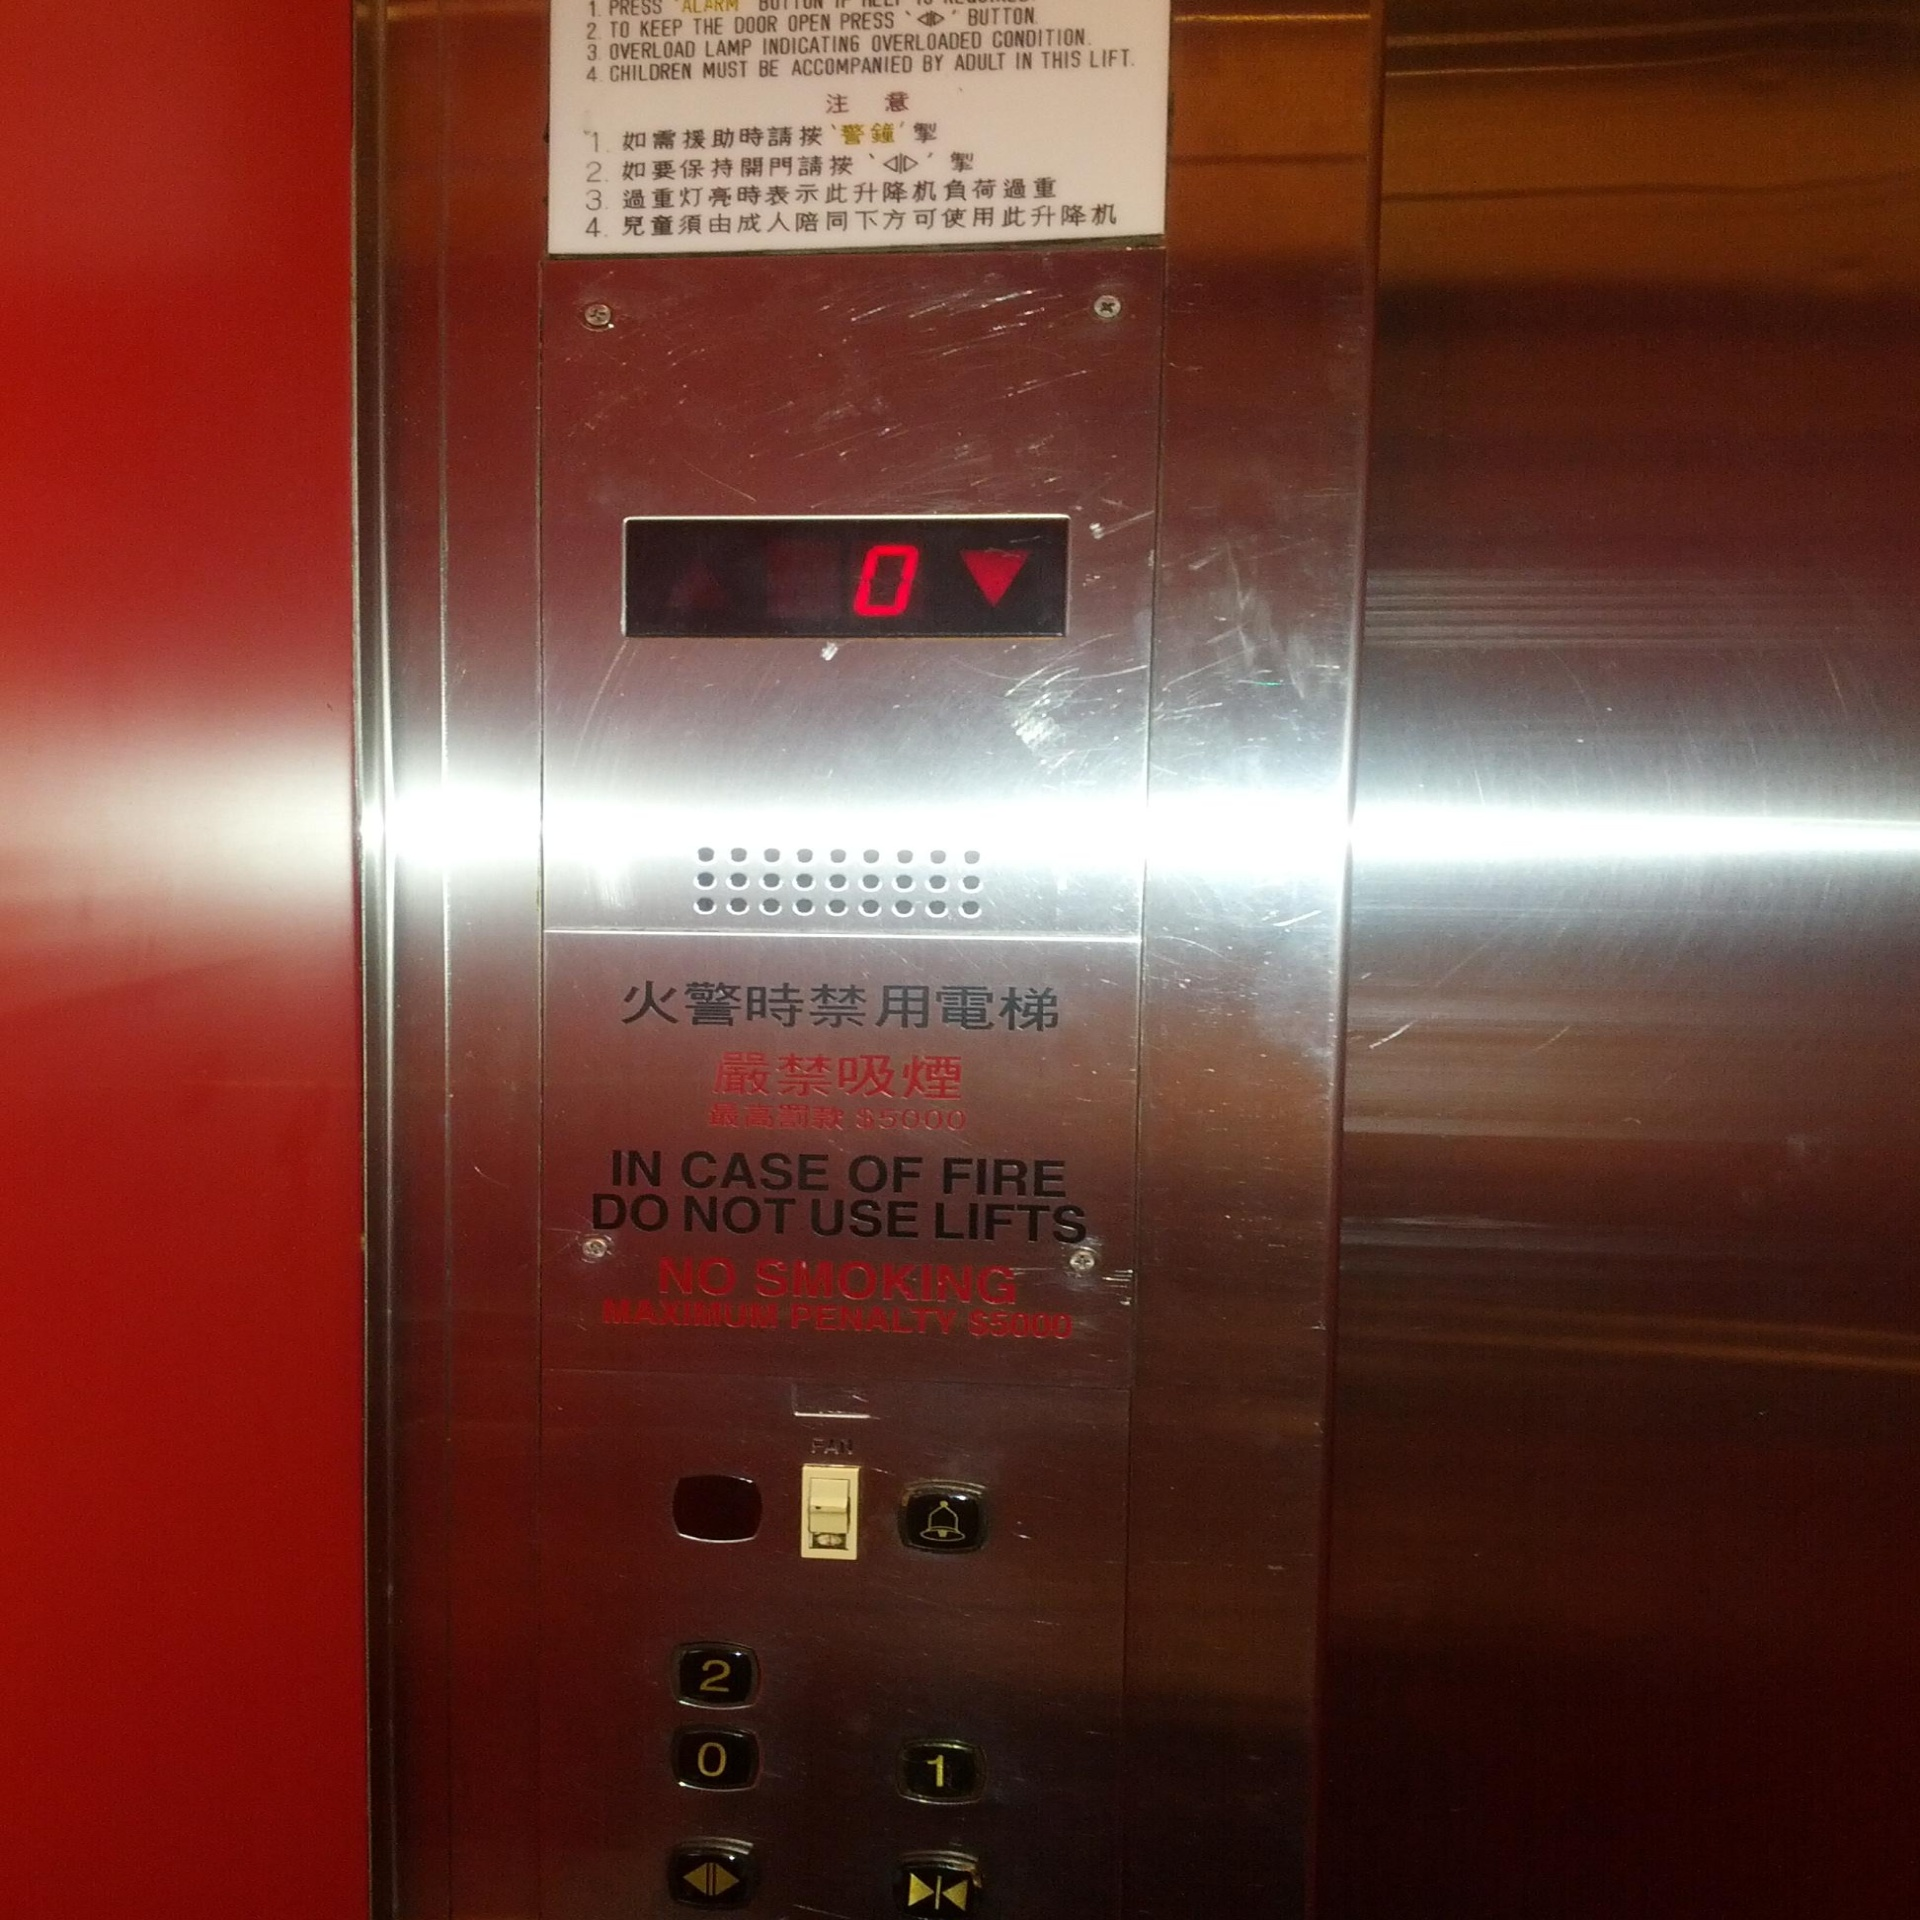0: (666, 1723, 765, 1795)
1: (893, 1734, 988, 1813)
2: (668, 1635, 767, 1716)
alarm: (893, 1477, 993, 1560)
close: (891, 1848, 986, 1918)
empty: (672, 1470, 767, 1547)
led: (614, 506, 1074, 642)
open: (665, 1834, 761, 1918)
switch: (804, 1463, 858, 1558)
